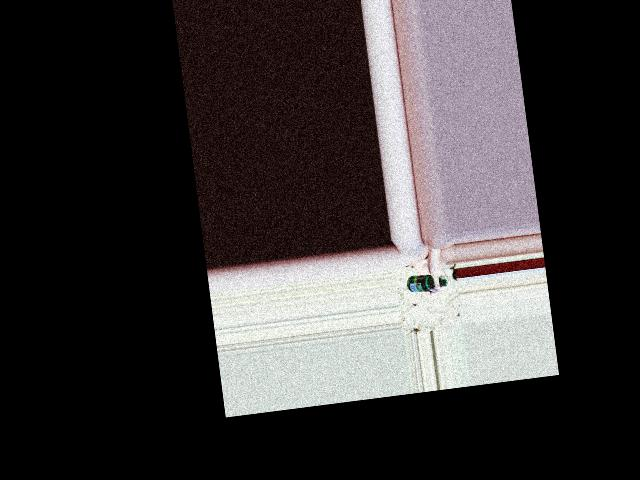beer: (405, 270, 448, 293)
